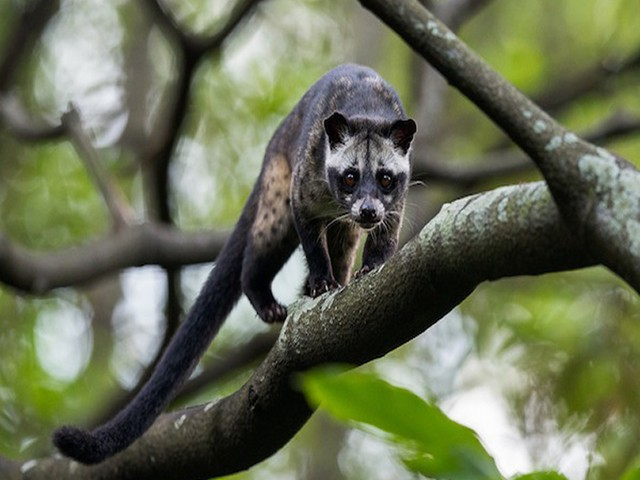civet: (53, 60, 417, 467)
